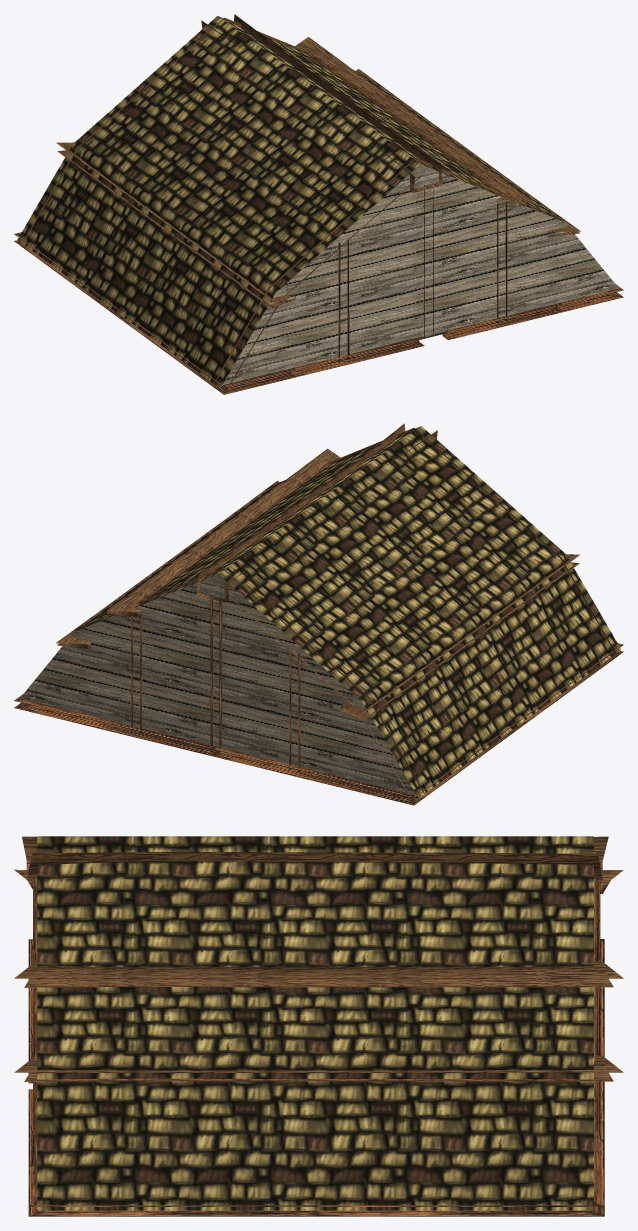
The model's file is LAKETOWN_WAREHOUSE3_PS_WH3_ROOF1_94948__GX.fbx.
The picture shows the model from 3 angles, top to bottom: view 1: azimuth 30°, elevation 25°; view 2: azimuth 150°, elevation 25°; view 3: azimuth 270°, elevation 25°; orthographic projection. The views are drawn at different scales.
Visible parts, largest first — view 1: LAKETOWN_WAREHOUSE3_PS_WH3_ROOF1_94948__GX; view 2: LAKETOWN_WAREHOUSE3_PS_WH3_ROOF1_94948__GX; view 3: LAKETOWN_WAREHOUSE3_PS_WH3_ROOF1_94948__GX.
Boxes of the visible parts, x1,y1,x2,y2 form: LAKETOWN_WAREHOUSE3_PS_WH3_ROOF1_94948__GX: (14,14,623,394); LAKETOWN_WAREHOUSE3_PS_WH3_ROOF1_94948__GX: (14,423,623,805); LAKETOWN_WAREHOUSE3_PS_WH3_ROOF1_94948__GX: (14,836,623,1216).
Size of the model in its own units: 203738 by 87740 by 194723.
Materials: 4 (4 with a texture image).
